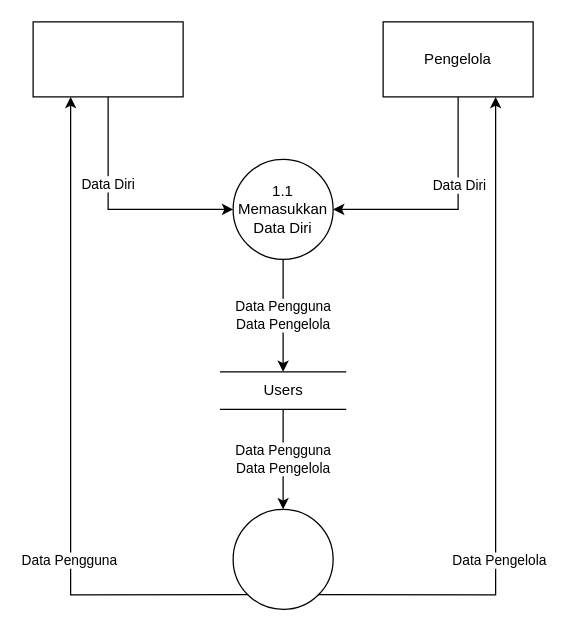
The diagram is 568 pixels wide and 631 high, and some of its shapes have lost their labels. The centre of each missing label's shape, as x and y in pixels:
1.2 Menampilkan data: (282,558)
Pengguna: (107,59)
